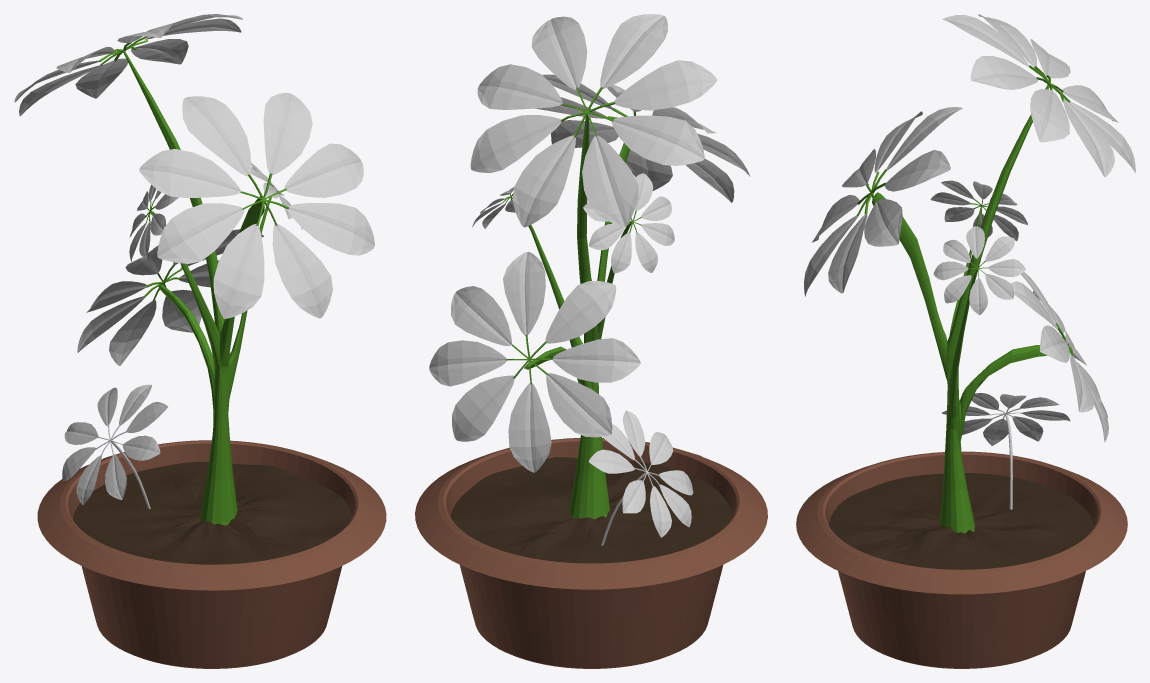
The model's file is decorativePlant.obj.
3 views of the same model, side by side, from view 1: azimuth 30°, elevation 25°; view 2: azimuth 150°, elevation 25°; view 3: azimuth 270°, elevation 25° (orthographic). The views are drawn at different scales.
Parts seen in each view (by area): view 1: Circle, Circle.006, Cube.001_Cube.003, Plane.026_Plane.056, Plane.048_Plane.078, Plane.049_Plane.079, Plane.047_Plane.077, Plane.046_Plane.076, Plane.050_Plane.080, Plane.045_Plane.075, Plane.016_Plane.024, Plane.044_Plane.074 (+9 smaller); view 2: Circle, Circle.006, Cube.001_Cube.003, Plane.026_Plane.056, Plane.038_Plane.068, Plane.037_Plane.067, Plane.041_Plane.071, Plane.036_Plane.066, Plane.040_Plane.070, Plane.014_Plane.030, Plane.039_Plane.069, Plane.042_Plane.072 (+19 smaller); view 3: Circle, Circle.006, Cube.001_Cube.003, Plane.026_Plane.056, Plane.039_Plane.069, Plane.042_Plane.072, Plane.044_Plane.074, Plane.016_Plane.024, Plane.040_Plane.070, Plane.045_Plane.075, Plane.014_Plane.030, Plane.050_Plane.080 (+13 smaller).
Boxes of the visible parts, bbox=[...] form: Circle: bbox=[37, 440, 386, 668]; Circle.006: bbox=[72, 462, 351, 564]; Cube.001_Cube.003: bbox=[123, 51, 271, 525]; Plane.026_Plane.056: bbox=[62, 384, 167, 509]; Plane.048_Plane.078: bbox=[157, 203, 244, 263]; Plane.049_Plane.079: bbox=[213, 223, 264, 318]; Plane.047_Plane.077: bbox=[139, 149, 241, 198]; Plane.046_Plane.076: bbox=[272, 223, 332, 318]; Plane.050_Plane.080: bbox=[182, 96, 250, 176]; Plane.045_Plane.075: bbox=[286, 203, 374, 255]; Plane.016_Plane.024: bbox=[263, 92, 312, 175]; Plane.044_Plane.074: bbox=[284, 143, 363, 197]; Circle: bbox=[415, 438, 767, 668]; Circle.006: bbox=[450, 457, 732, 563]; Cube.001_Cube.003: bbox=[511, 114, 631, 519]; Plane.026_Plane.056: bbox=[588, 410, 693, 545]; Plane.038_Plane.068: bbox=[582, 135, 638, 227]; Plane.037_Plane.067: bbox=[611, 115, 704, 165]; Plane.041_Plane.071: bbox=[512, 135, 575, 227]; Plane.036_Plane.066: bbox=[614, 60, 717, 110]; Plane.040_Plane.070: bbox=[470, 115, 561, 172]; Plane.014_Plane.030: bbox=[600, 14, 667, 89]; Plane.039_Plane.069: bbox=[477, 64, 563, 109]; Plane.042_Plane.072: bbox=[531, 16, 587, 89]; Circle: bbox=[796, 451, 1127, 668]; Circle.006: bbox=[829, 473, 1093, 569]; Cube.001_Cube.003: bbox=[872, 85, 1072, 533]; Plane.026_Plane.056: bbox=[942, 393, 1070, 509]; Plane.039_Plane.069: bbox=[1030, 89, 1069, 142]; Plane.042_Plane.072: bbox=[970, 56, 1038, 89]; Plane.044_Plane.074: bbox=[864, 199, 902, 246]; Plane.016_Plane.024: bbox=[884, 150, 950, 191]; Plane.040_Plane.070: bbox=[1063, 99, 1114, 177]; Plane.045_Plane.075: bbox=[828, 213, 867, 293]; Plane.014_Plane.030: bbox=[942, 15, 1029, 66]; Plane.050_Plane.080: bbox=[886, 107, 962, 170].
Size of the model in its own units: 31.77 by 60.59 by 32.22.
